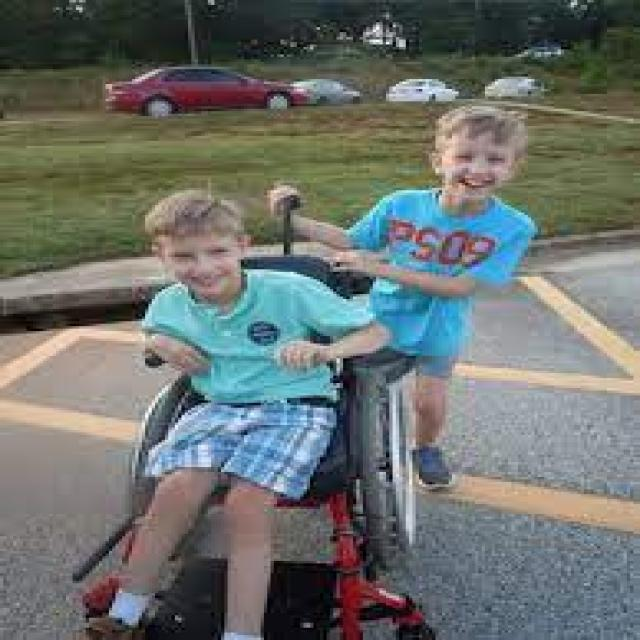wheelchairs: (89, 259, 426, 640)
